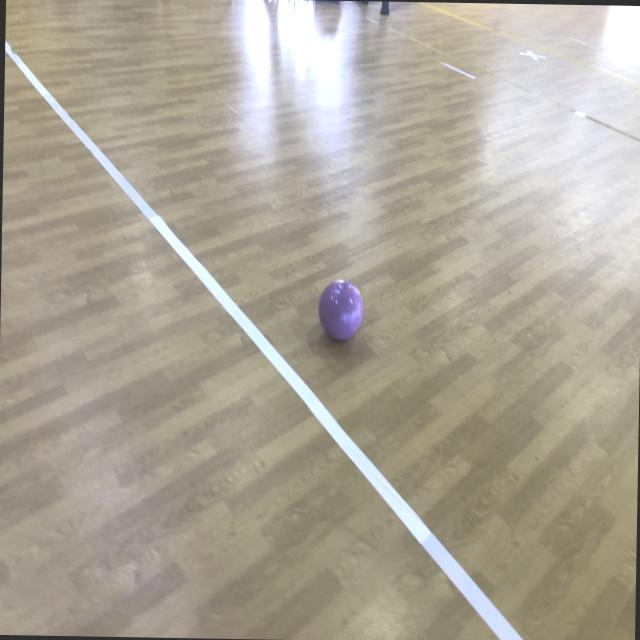purple_ball: (319, 280, 363, 342)
